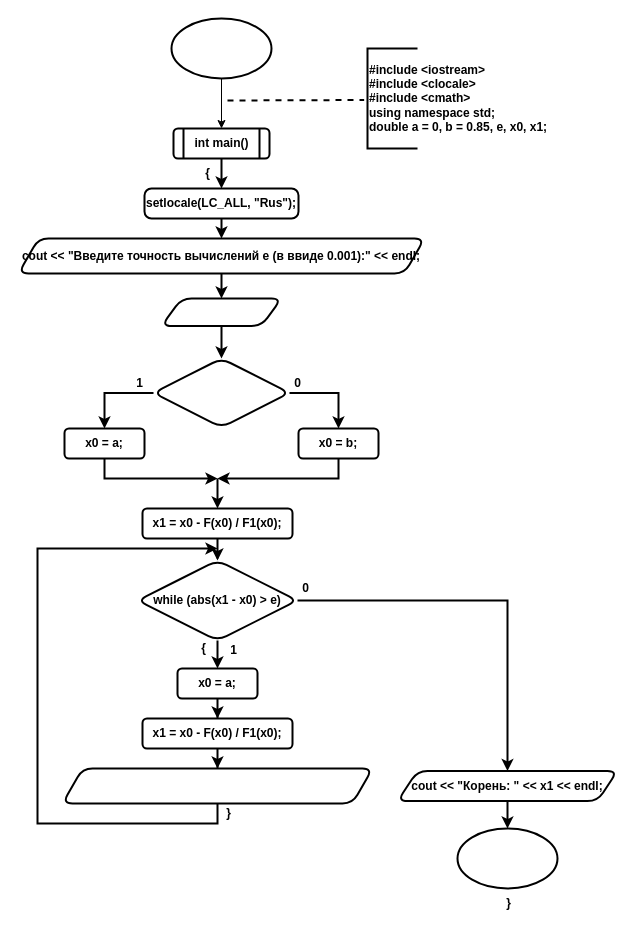
Image size: 635x933. Some labels were removed from this diagram. The centre of each missing label's shape, as x and y in pixels:
cin >> e;: [221,311]
cout << "Новое приближение х1 = " << x1 << endl;: [217,785]
if (F(a) * F2(a) > 0): [221,392]
return 0;: [507,858]
начало: [221,48]
